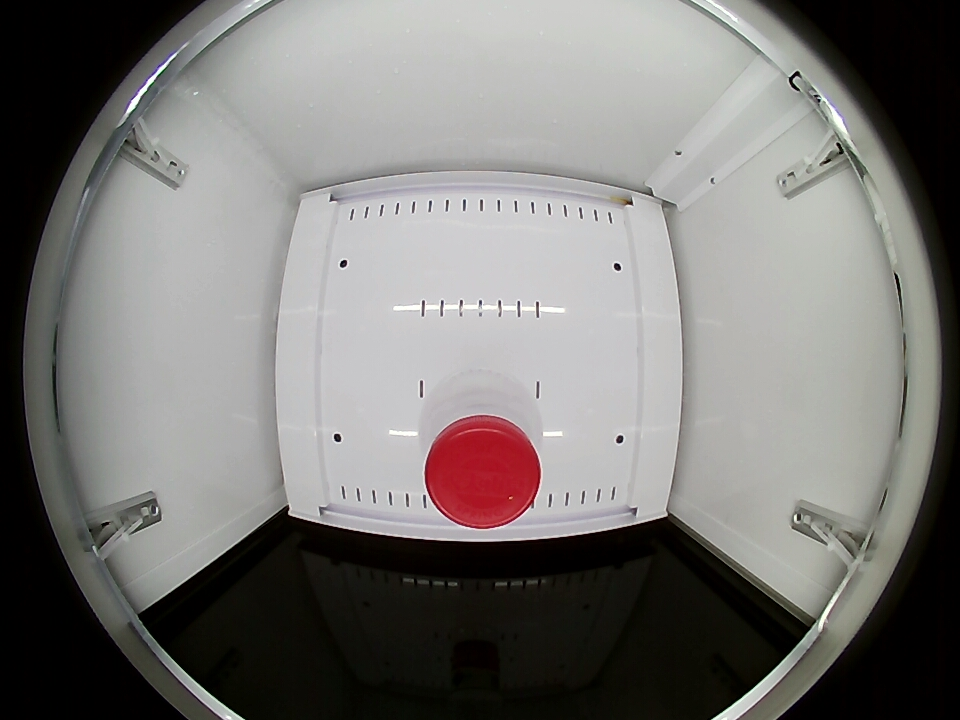nongfushanquan: (421, 384, 543, 528)
